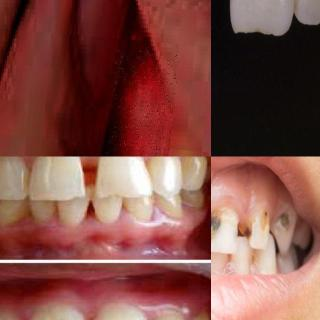Gum Swelling: (108, 53, 169, 157), (211, 194, 254, 230)
cavities: (211, 205, 241, 252), (242, 207, 270, 249), (274, 210, 292, 237)
